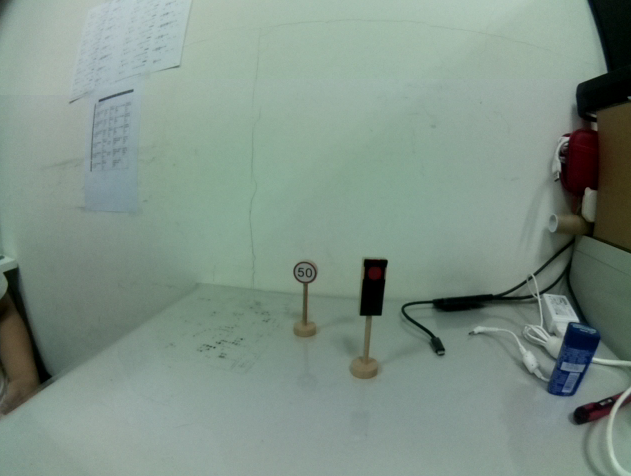Red: (353, 252, 393, 318)
Speed50: (293, 259, 321, 286)
